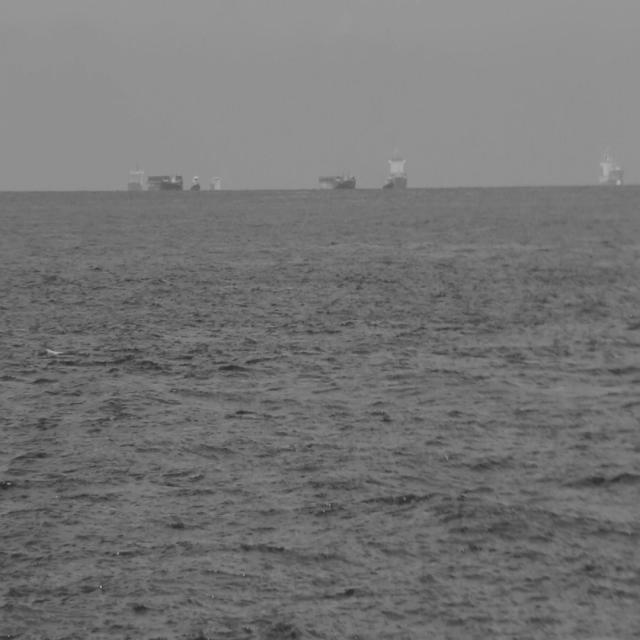ship: (125, 162, 183, 193), (380, 144, 410, 192), (597, 143, 624, 188), (317, 169, 357, 192), (189, 172, 202, 192)
